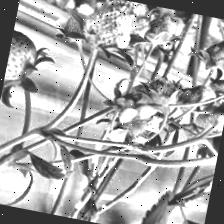Powdery Mildew Fruit: (77, 3, 137, 57), (3, 29, 42, 94), (105, 0, 153, 37), (200, 34, 224, 72)
